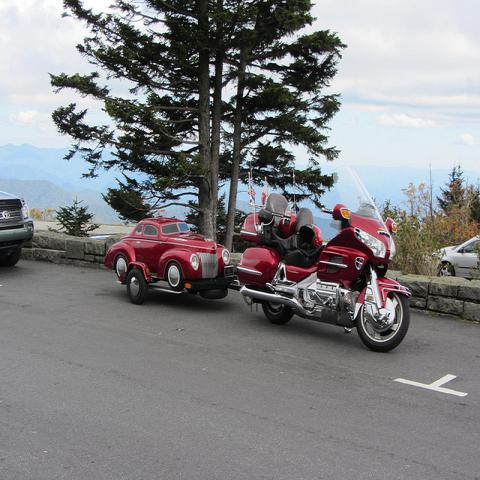car: (102, 221, 242, 302), (0, 192, 37, 265), (429, 231, 479, 280)
motorcycle: (236, 166, 413, 353)
